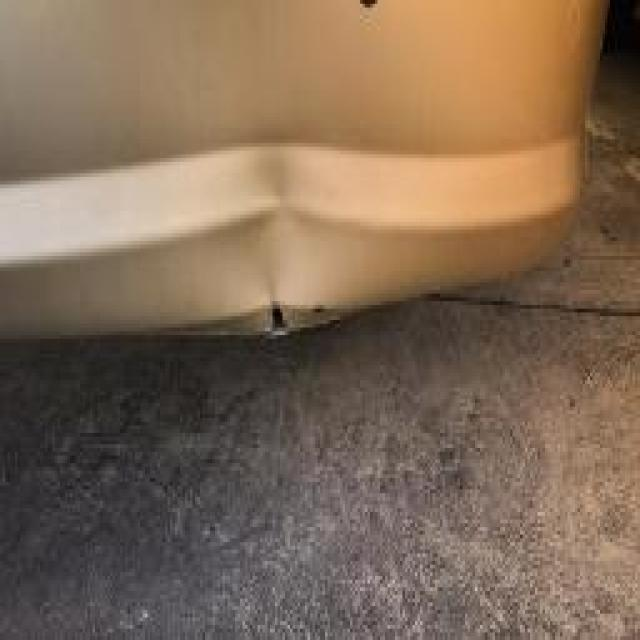Bumper: (200, 120, 385, 350)
